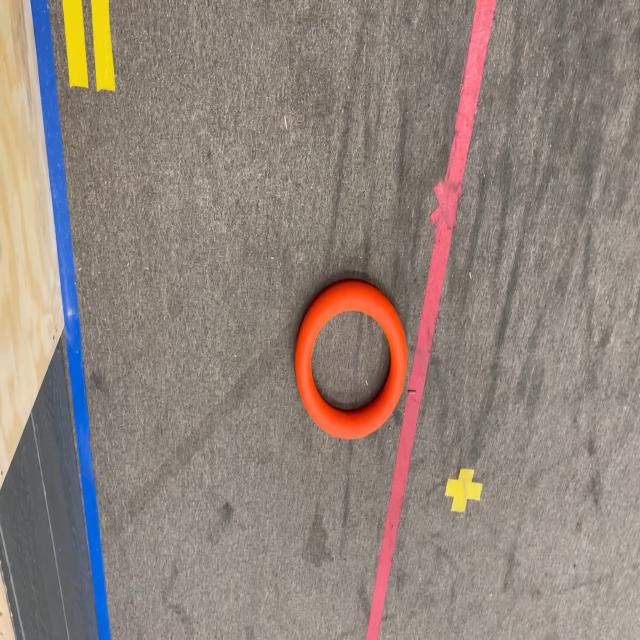note: (292, 280, 408, 442)
